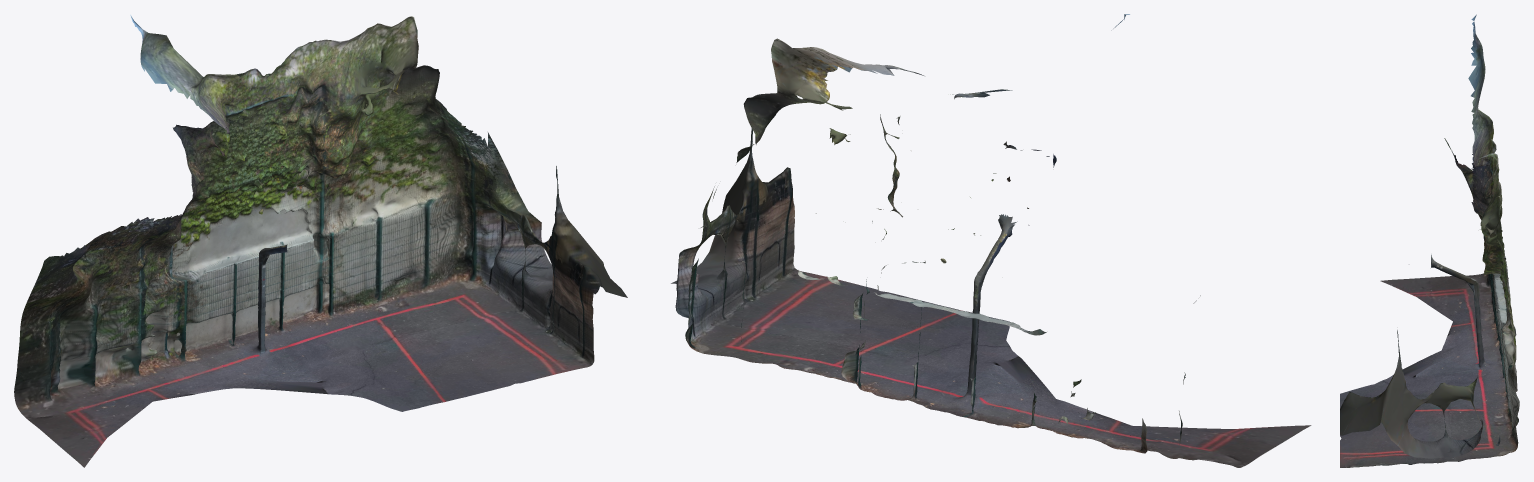
The model's file is cage_scan_2k.glb.
3 views of the same model, side by side, from view 1: azimuth 30°, elevation 25°; view 2: azimuth 150°, elevation 25°; view 3: azimuth 270°, elevation 25° (orthographic). The views are drawn at different scales.
Visible parts, largest first — view 1: cage_scan; view 2: cage_scan; view 3: cage_scan.
Boxes of the visible parts, x1,y1,x2,y2 form: cage_scan: [14, 15, 627, 467]; cage_scan: [671, 14, 1311, 467]; cage_scan: [1340, 14, 1519, 467].
Size of the model in its own units: 13.4 by 9.45 by 4.99.
1 material, 1 textured.
